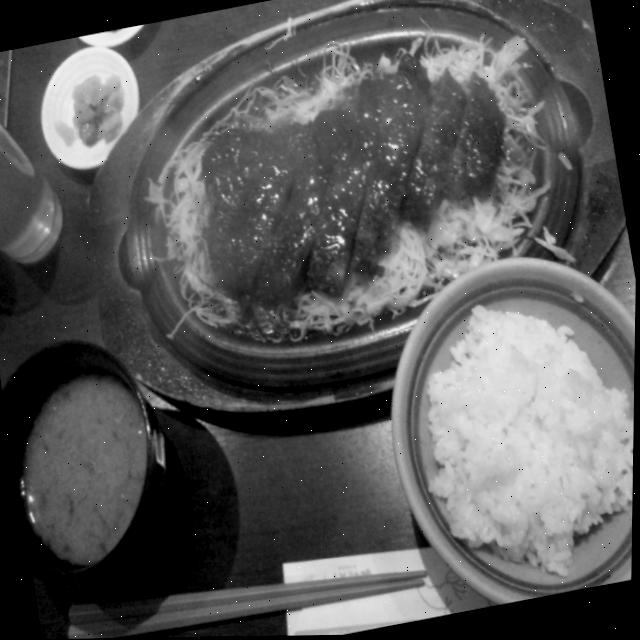汤锅炖物: (0, 330, 181, 601)
米饭主食: (363, 243, 637, 621)
